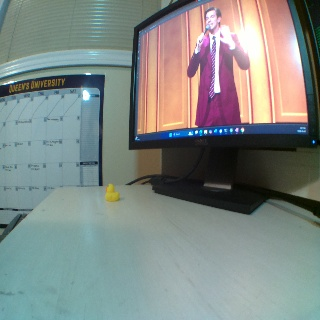duck_regular: (104, 182, 120, 202)
